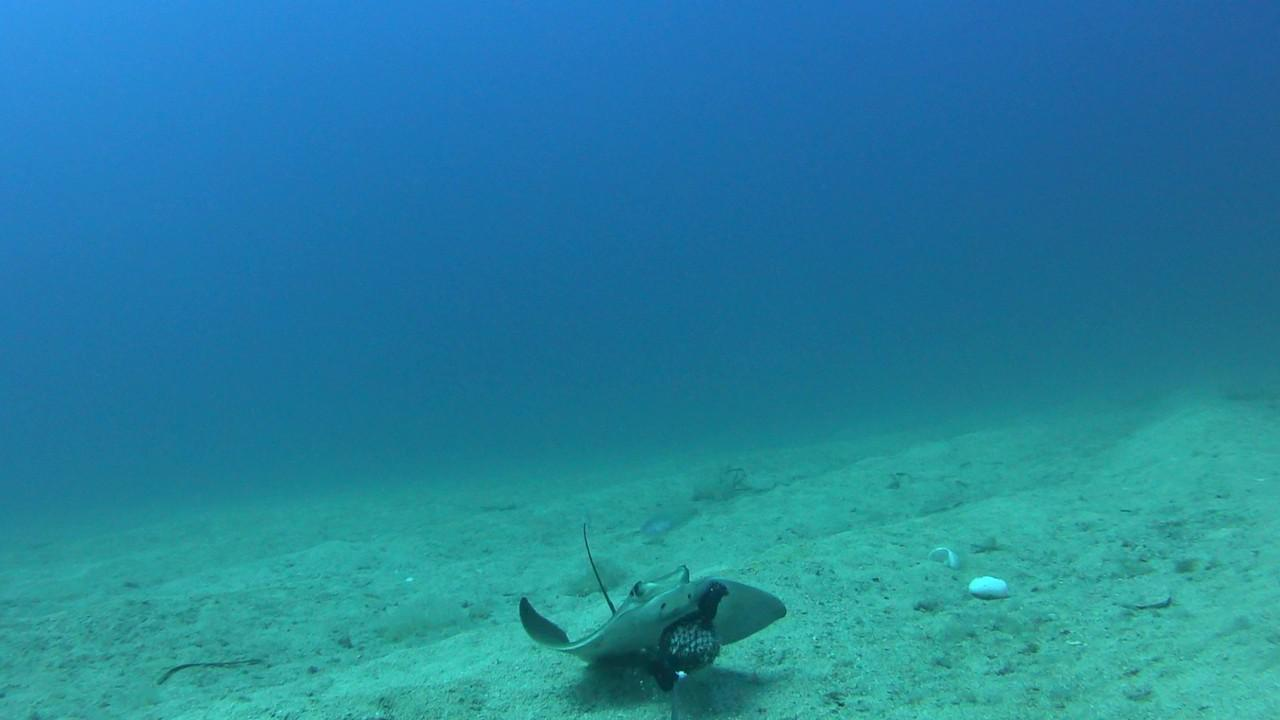myliobatis: (489, 503, 801, 676)
raor: (640, 502, 711, 546)
